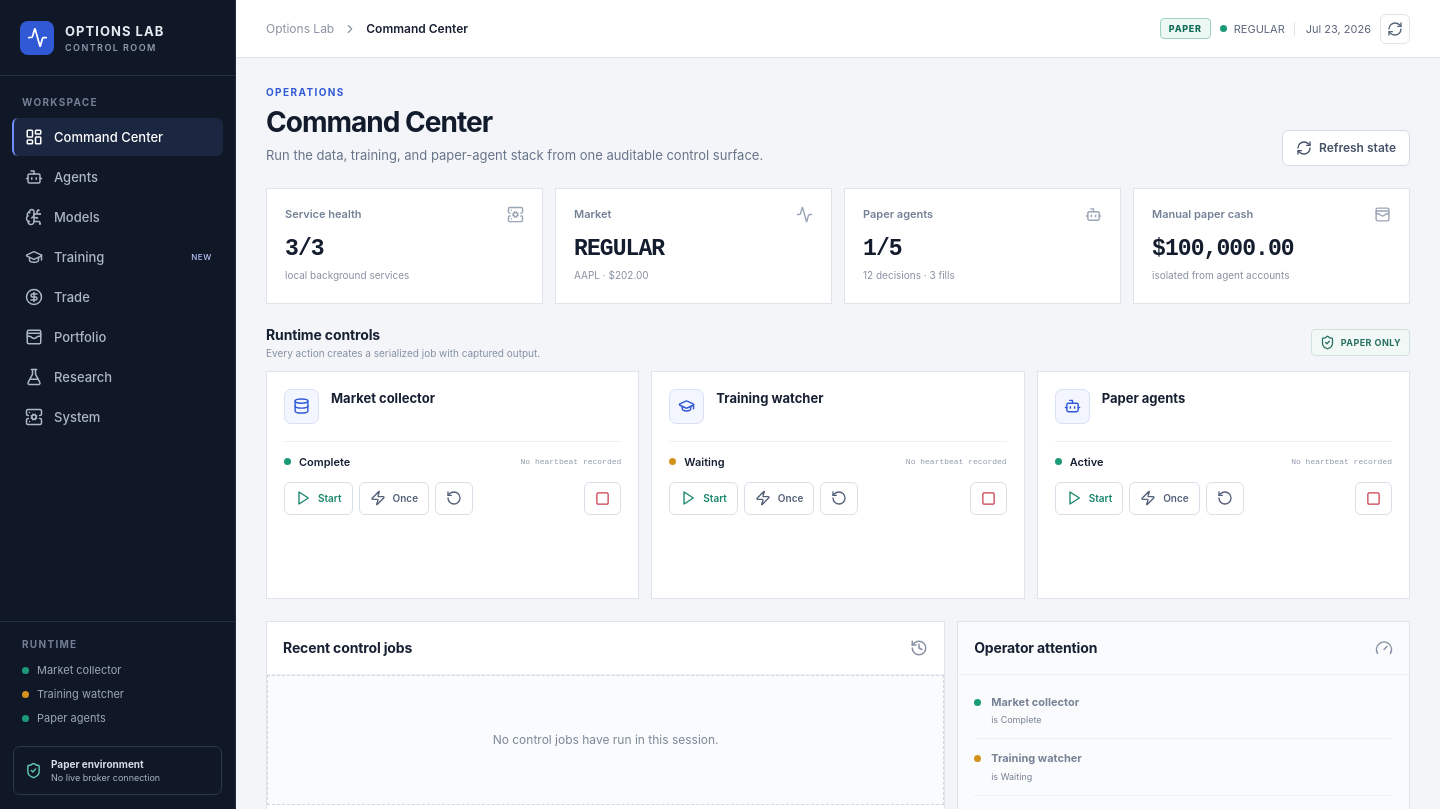
Test: Options Control Room › renders the real command center and first-class training navigation
expect the heading "Command Center" is shown: met, box [266,105,492,139]
Click the button "Training NEW": (118,257) [12,238,223,276]
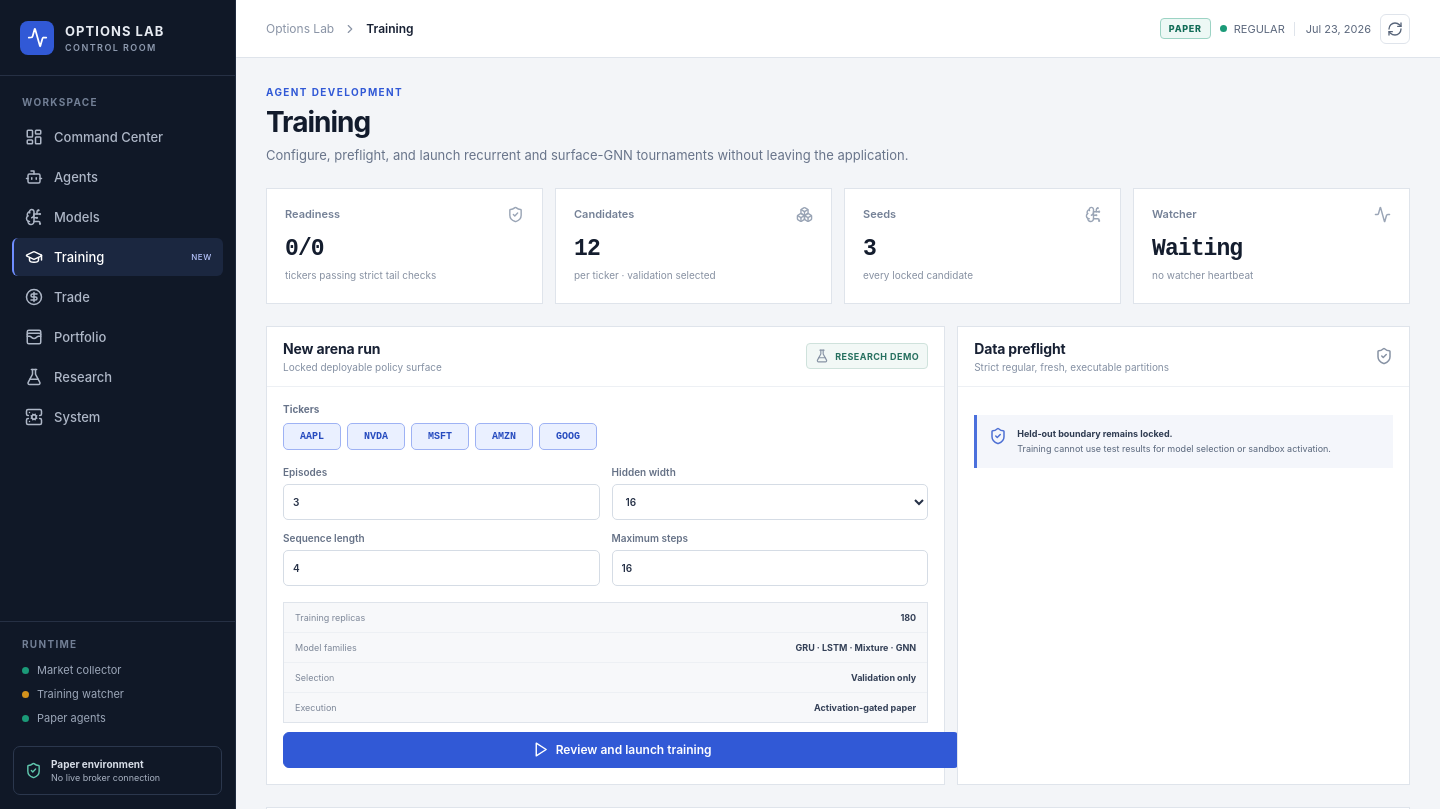
expect the heading "Training" is shown: met, box [266,105,370,139]
expect the button "Review and launch training" is shown: met, box [283,732,960,768]
expect the text "GRU · LSTM · Mixture · GNN" is shown: met, box [796,642,916,652]
